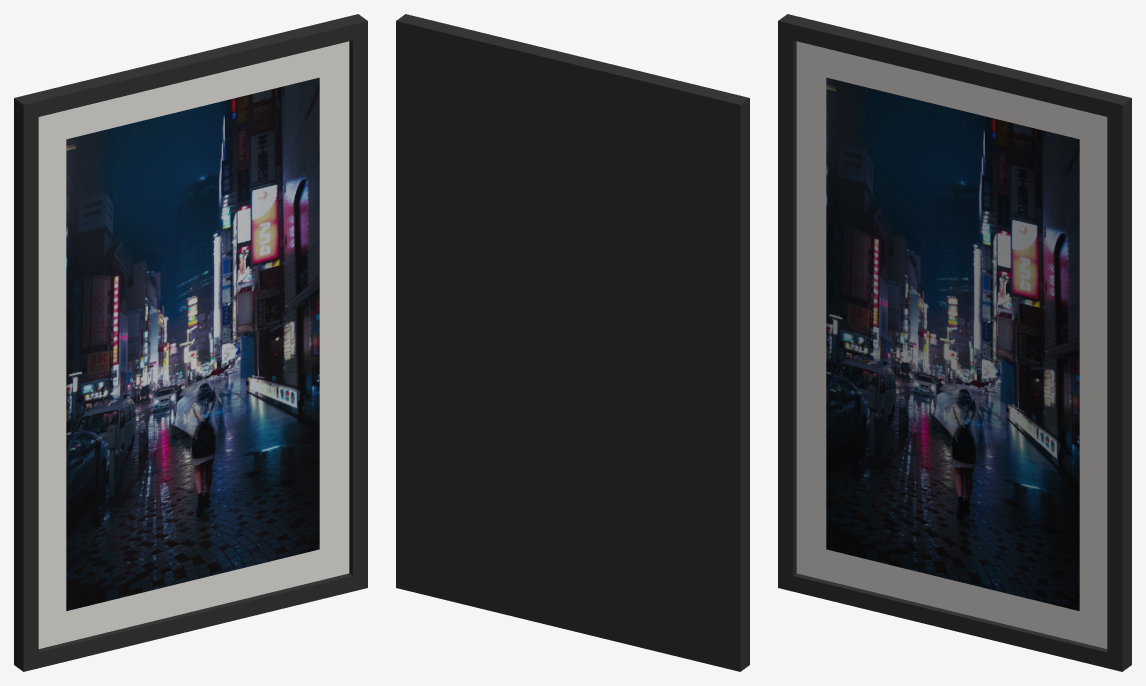
File: neonregn-60.gltf
The picture shows the model from 3 angles, left to right: view 1: azimuth 30°, elevation 25°; view 2: azimuth 150°, elevation 25°; view 3: azimuth 330°, elevation 25°; orthographic projection.
Parts seen in each view (by area): view 1: tavla; view 2: tavla; view 3: tavla.
Part boxes in pixels (x1=…): tavla: x1=14, y1=14, x2=367, y2=671; tavla: x1=396, y1=14, x2=749, y2=671; tavla: x1=778, y1=14, x2=1131, y2=671.
Size of the model in its own units: 0.4583 by 0.721 by 0.022.
3 materials, 1 textured.
